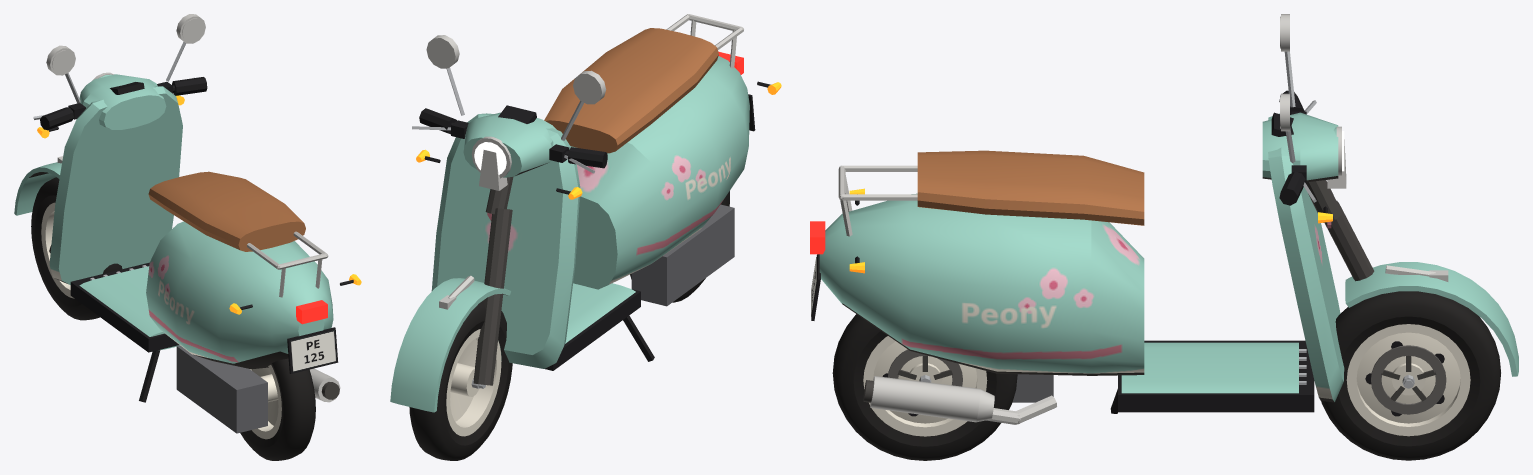
Rendered from BIKE-003_Export.fbx.
3 renders of one model, left to right at view 1: azimuth 30°, elevation 25°; view 2: azimuth 150°, elevation 25°; view 3: azimuth 270°, elevation 25°, orthographic. The views are drawn at different scales.
Parts seen in each view (by area): view 1: BIKE-003_Body, BIKE-003_Frame, BIKE-003_Fork, BIKE-003_Wheel_R_Tire, BIKE-003_Wheel_F_Tire, BIKE-003_Wheel_R_Rim, BIKE-003_Lights, BIKE-003_Wheel_F_Rim; view 2: BIKE-003_Body, BIKE-003_Fork, BIKE-003_Frame, BIKE-003_Wheel_F_Tire, BIKE-003_Wheel_F_Rim, BIKE-003_Lights; view 3: BIKE-003_Body, BIKE-003_Frame, BIKE-003_Fork, BIKE-003_Wheel_F_Tire, BIKE-003_Wheel_F_Rim, BIKE-003_Wheel_R_Tire, BIKE-003_Wheel_R_Rim, BIKE-003_Lights.
Boxes of the visible parts, bbox=[...] form: BIKE-003_Body: bbox=[37, 86, 333, 369]; BIKE-003_Frame: bbox=[70, 171, 340, 433]; BIKE-003_Fork: bbox=[14, 14, 207, 253]; BIKE-003_Wheel_R_Tire: bbox=[240, 358, 315, 460]; BIKE-003_Wheel_F_Tire: bbox=[31, 177, 122, 320]; BIKE-003_Wheel_R_Rim: bbox=[250, 365, 281, 439]; BIKE-003_Lights: bbox=[229, 274, 361, 324]; BIKE-003_Wheel_F_Rim: bbox=[41, 202, 74, 298]; BIKE-003_Body: bbox=[416, 56, 749, 368]; BIKE-003_Fork: bbox=[390, 35, 607, 412]; BIKE-003_Frame: bbox=[487, 14, 755, 370]; BIKE-003_Wheel_F_Tire: bbox=[409, 301, 512, 460]; BIKE-003_Wheel_F_Rim: bbox=[446, 329, 501, 436]; BIKE-003_Lights: bbox=[718, 51, 781, 94]; BIKE-003_Body: bbox=[819, 113, 1344, 402]; BIKE-003_Frame: bbox=[811, 150, 1331, 424]; BIKE-003_Fork: bbox=[1262, 14, 1518, 387]; BIKE-003_Wheel_F_Tire: bbox=[1321, 291, 1500, 460]; BIKE-003_Wheel_F_Rim: bbox=[1346, 324, 1470, 436]; BIKE-003_Wheel_R_Tire: bbox=[832, 314, 1017, 460]; BIKE-003_Wheel_R_Rim: bbox=[863, 336, 987, 436]; BIKE-003_Lights: bbox=[810, 188, 864, 273].
Size of the model in its own units: 0.6254 by 1.17 by 1.88.
Materials: 15 (2 with a texture image).
